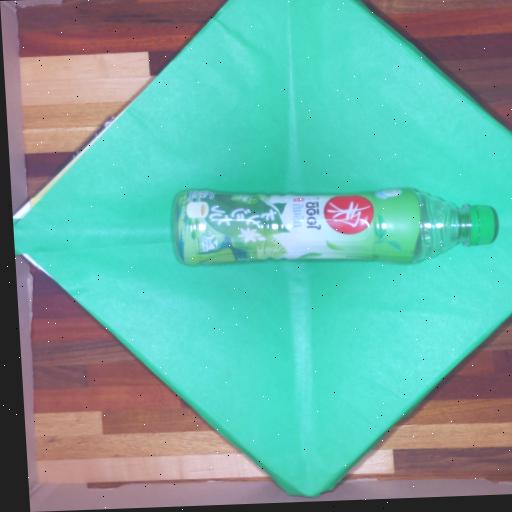bottle: (160, 174, 502, 284)
